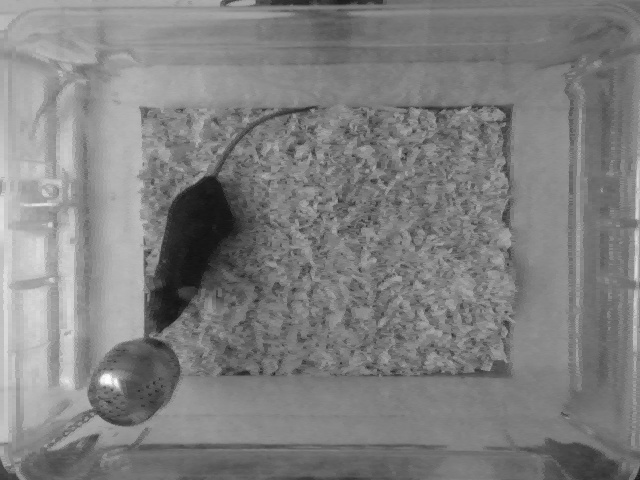mice: (142, 104, 313, 339)
